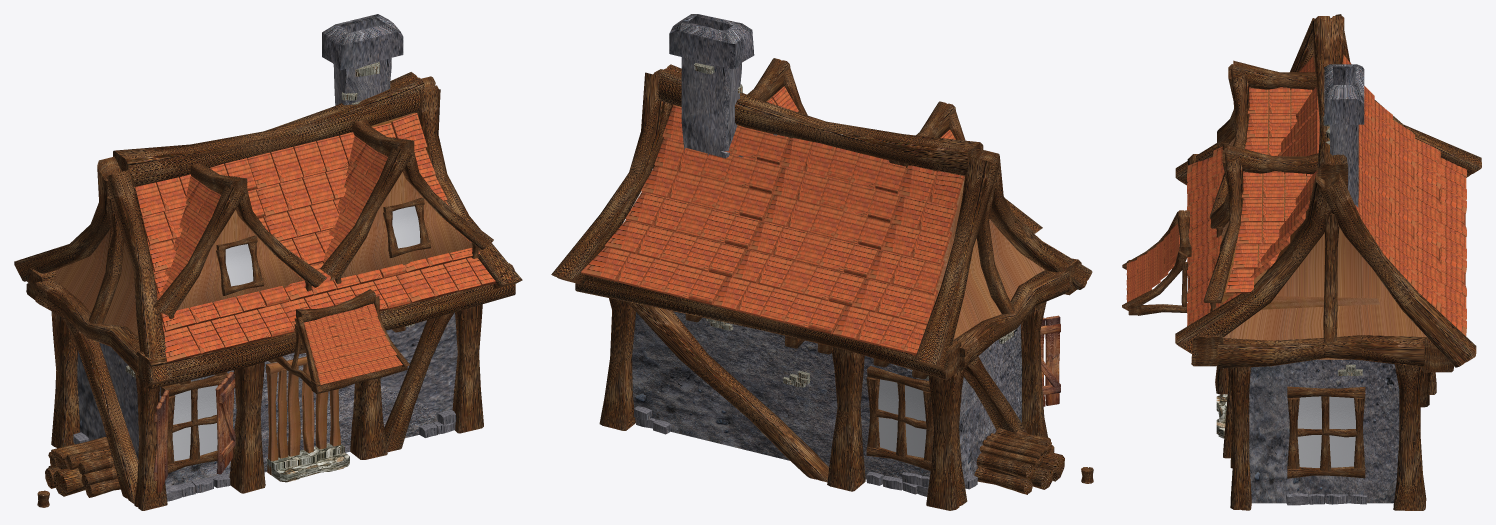
File: SegundaCasaText.fbx
3 views of the same model, side by side, from view 1: azimuth 30°, elevation 25°; view 2: azimuth 150°, elevation 25°; view 3: azimuth 270°, elevation 25° (orthographic). The views are drawn at different scales.
Parts seen in each view (by area): view 1: Object053; view 2: Object053; view 3: Object053.
Boxes of the visible parts, x1,y1,x2,y2 form: Object053: (14,14,522,510); Object053: (551,14,1093,510); Object053: (1122,14,1481,510).
Bounding box in the file's own units: 3.96 × 3.28 × 2.67.
